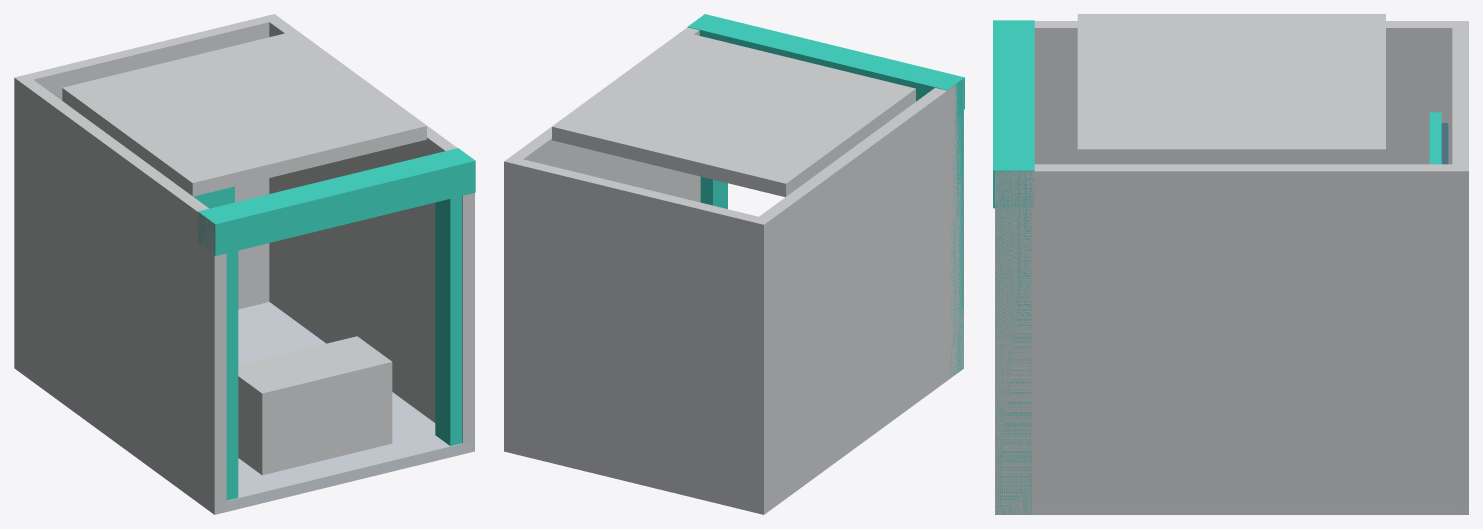
The picture shows the model from 3 angles, left to right: view 1: azimuth 30°, elevation 25°; view 2: azimuth 150°, elevation 25°; view 3: azimuth 270°, elevation 25°; orthographic projection. The views are drawn at different scales.
Parts seen in each view (by area): view 1: Exhibition Booth Concept; view 2: Exhibition Booth Concept; view 3: Exhibition Booth Concept.
Part boxes in pixels (x1,y1,x2,y2): Exhibition Booth Concept: [14, 14, 475, 514]; Exhibition Booth Concept: [504, 14, 964, 514]; Exhibition Booth Concept: [993, 14, 1468, 514].
Bounding box in the file's own units: 3 × 3.34 × 4.02.
